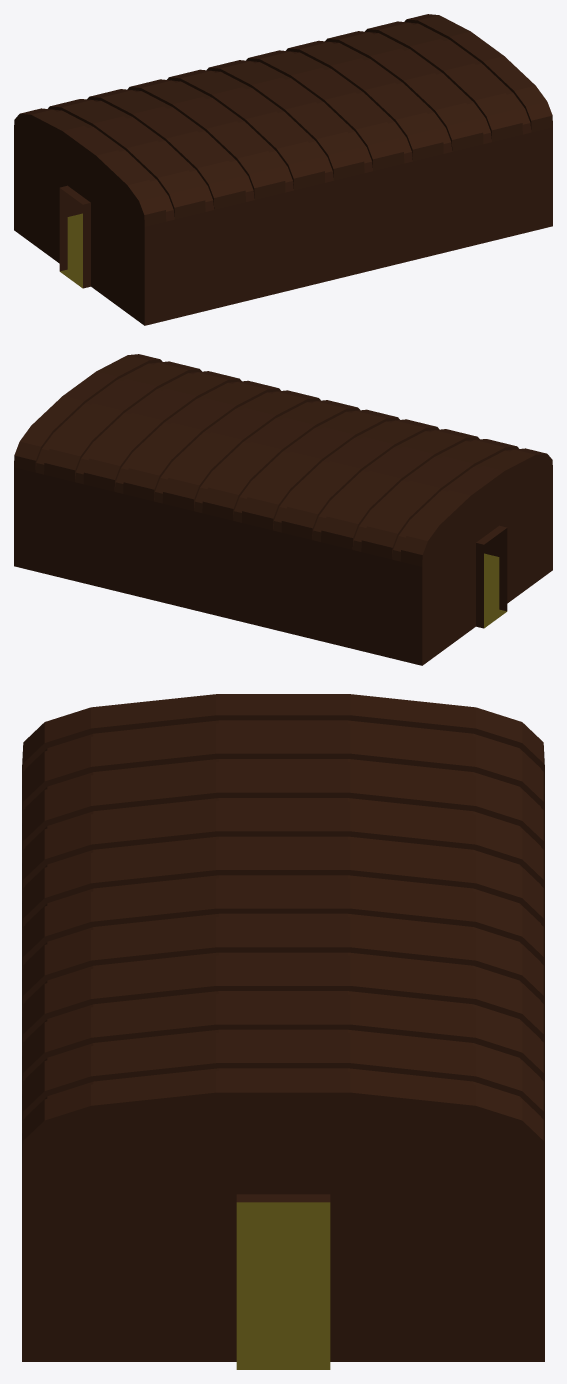
Rendered from SmallClosedCarriage.fbx.
3 renders of one model, top to bottom at view 1: azimuth 30°, elevation 25°; view 2: azimuth 150°, elevation 25°; view 3: azimuth 270°, elevation 25°, orthographic. The views are drawn at different scales.
Parts seen in each view (by area): view 1: SmallClosedCarriage; view 2: SmallClosedCarriage; view 3: SmallClosedCarriage.
Part boxes in pixels (x1=…): SmallClosedCarriage: x1=14, y1=14, x2=552, y2=325; SmallClosedCarriage: x1=14, y1=354, x2=552, y2=665; SmallClosedCarriage: x1=22, y1=694, x2=544, y2=1369.
Size of what is drawn, in the model's own units: 4959 by 1503 by 2644.
